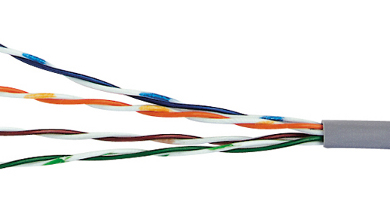more_tube: (14, 38, 316, 181)
